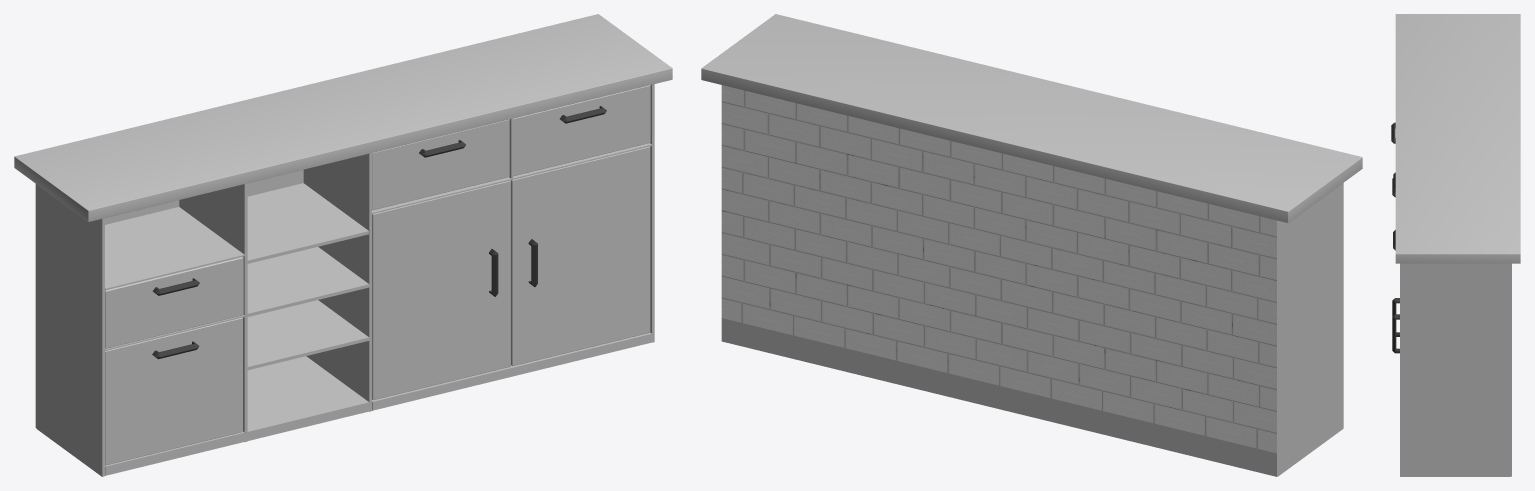
Rendered from Counter bar.fbx.
The picture shows the model from 3 angles, left to right: view 1: azimuth 30°, elevation 25°; view 2: azimuth 150°, elevation 25°; view 3: azimuth 270°, elevation 25°; orthographic projection. The views are drawn at different scales.
Parts seen in each view (by area): view 1: counter bar, drawer 6, drawer 5, drawer 2, drawer1, drawer 3, drawer 4; view 2: counter bar; view 3: counter bar, drawer 6.
Boxes of the visible parts, bbox=[...] form: counter bar: bbox=[14, 14, 672, 476]; drawer 6: bbox=[511, 146, 650, 366]; drawer 5: bbox=[372, 180, 510, 400]; drawer 2: bbox=[105, 317, 242, 465]; drawer1: bbox=[105, 257, 243, 348]; drawer 3: bbox=[513, 85, 650, 176]; drawer 4: bbox=[372, 119, 509, 210]; counter bar: bbox=[701, 14, 1362, 476]; counter bar: bbox=[1395, 14, 1520, 476]; drawer 6: bbox=[1392, 314, 1399, 353].
Size of the model in its own units: 211 by 93.95 by 47.98.
